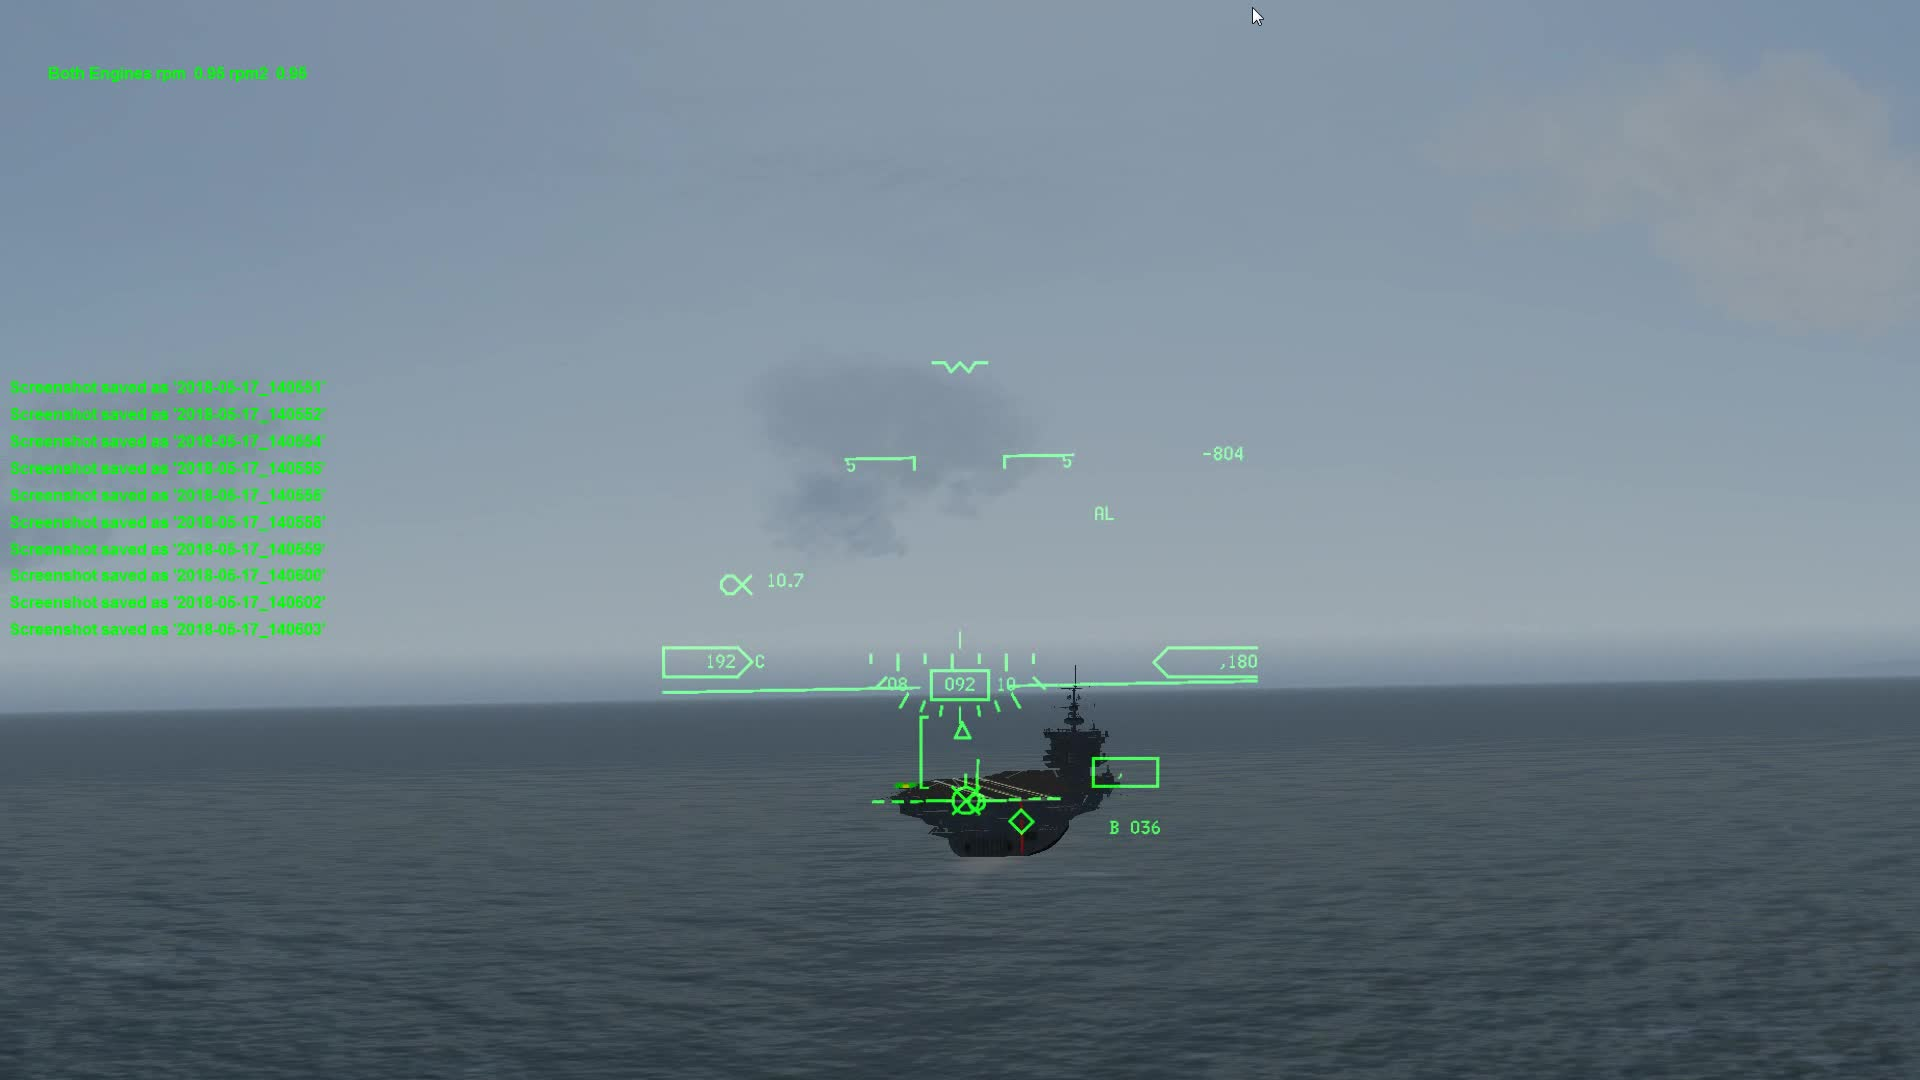speed vector: (927, 773, 1015, 822)
